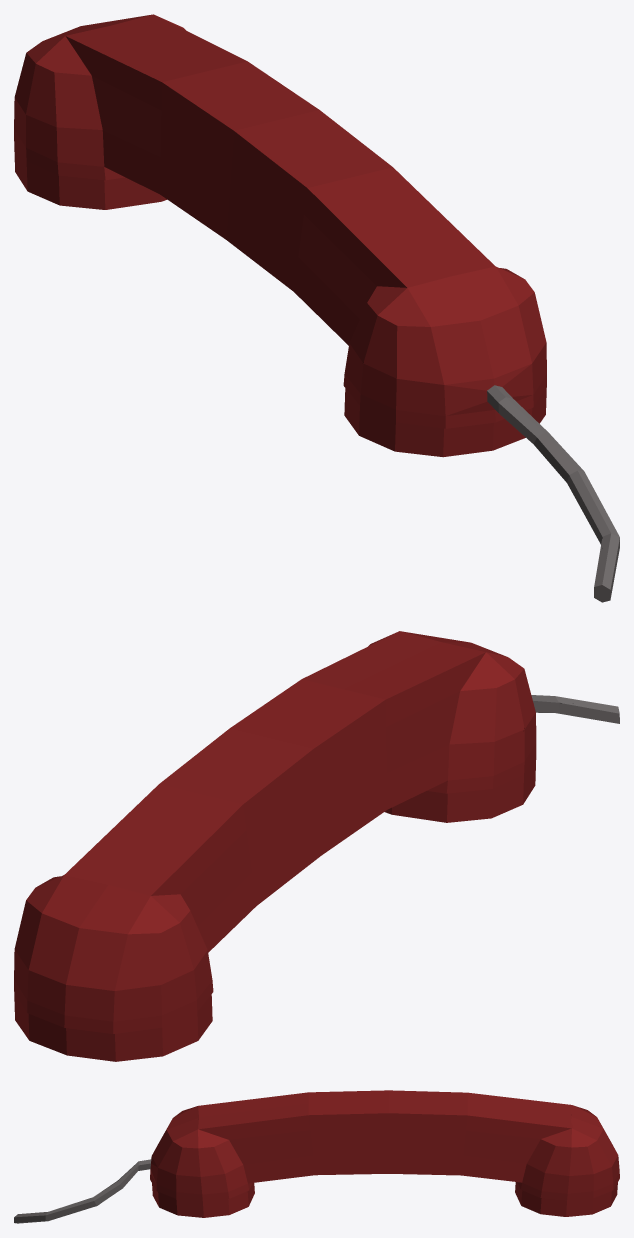
The model's file is Phone.fbx.
3 views of the same model, one above another, from view 1: azimuth 30°, elevation 25°; view 2: azimuth 150°, elevation 25°; view 3: azimuth 270°, elevation 25° (orthographic). The views are drawn at different scales.
Parts seen in each view (by area): view 1: Phone; view 2: Phone; view 3: Phone.
Boxes of the visible parts, box(x1,y1,x2,y2) form: Phone: box(14, 14, 619, 602); Phone: box(14, 631, 619, 1061); Phone: box(14, 1090, 619, 1223).
Bounding box in the file's own units: 10.29 × 12.96 × 56.65.
Materials: 1 (1 with a texture image).
